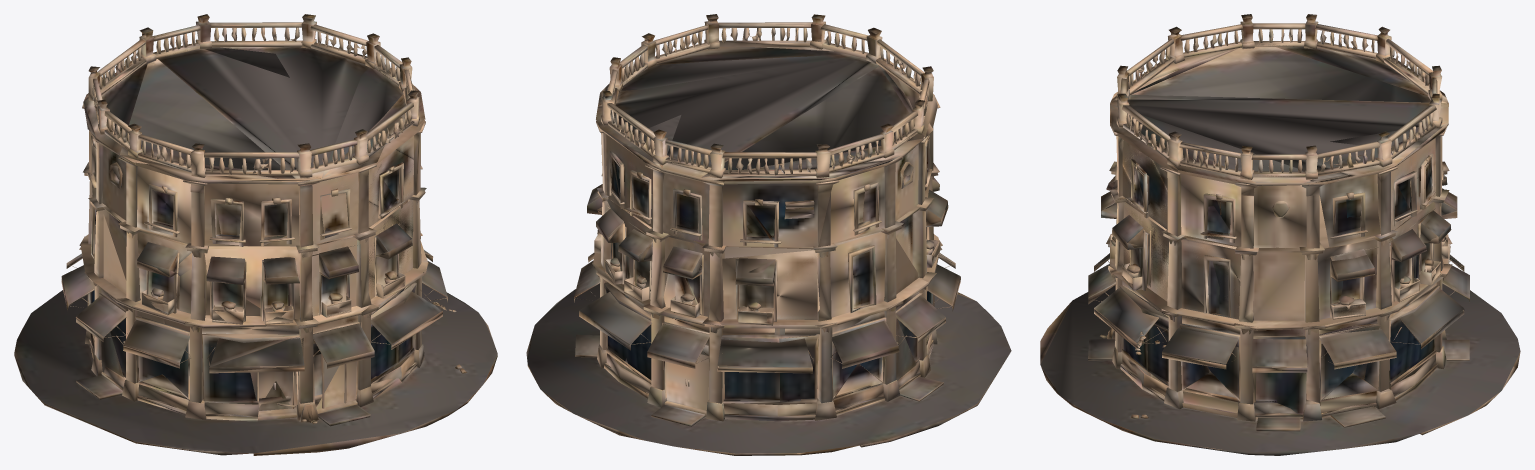
3 renders of one model, left to right at view 1: azimuth 30°, elevation 25°; view 2: azimuth 150°, elevation 25°; view 3: azimuth 270°, elevation 25°, orthographic.
Bounding box in the file's own units: 0.9565 × 0.5948 × 0.9516.
Materials: 1 (1 with a texture image).
